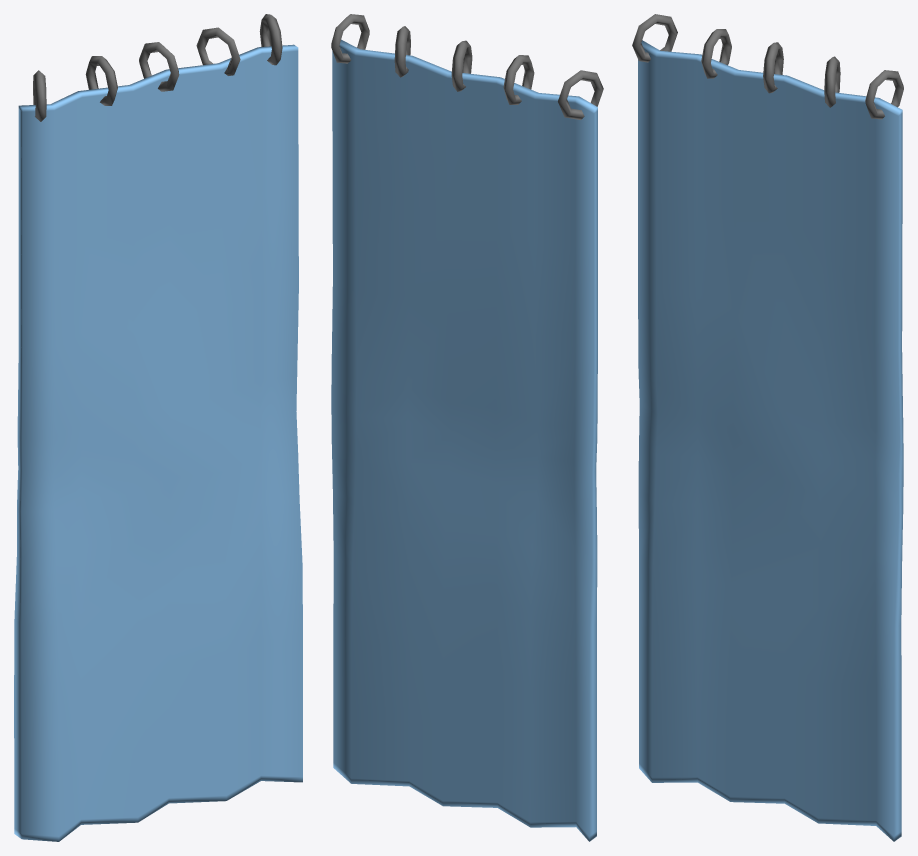
Rendered from curtain_001.fbx.
The picture shows the model from 3 angles, left to right: view 1: azimuth 30°, elevation 25°; view 2: azimuth 150°, elevation 25°; view 3: azimuth 330°, elevation 25°; orthographic projection.
Visible parts, largest first — view 1: curtain_001; view 2: curtain_001; view 3: curtain_001.
Part boxes in pixels (left/top/right/bottom): curtain_001: left=14, top=14, right=302, bottom=841; curtain_001: left=331, top=14, right=603, bottom=841; curtain_001: left=632, top=14, right=903, bottom=841.
Bounding box in the file's own units: 128 × 22.83 × 348.
